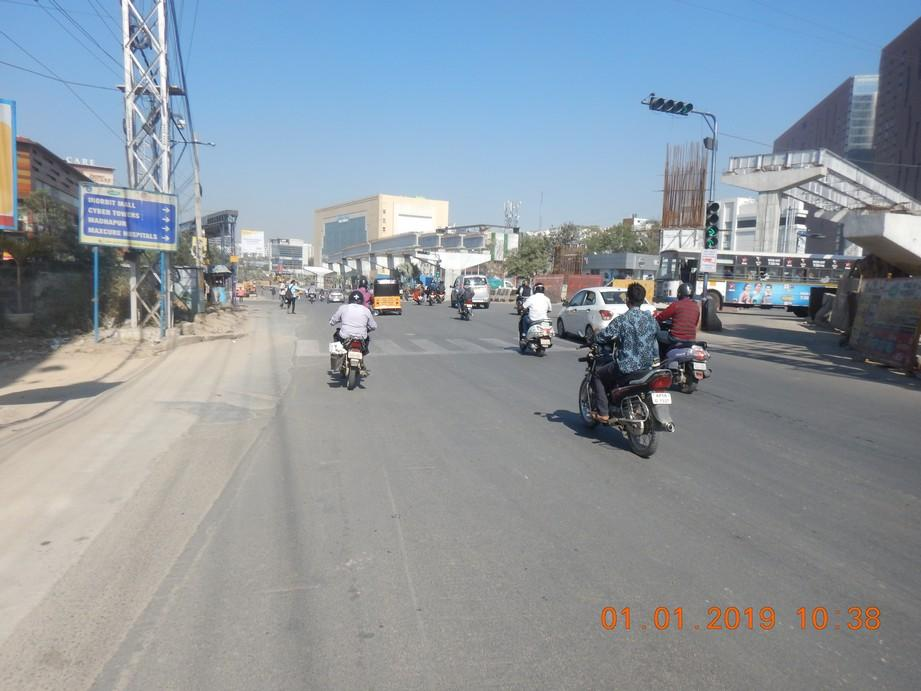plate: (651, 392, 673, 405)
